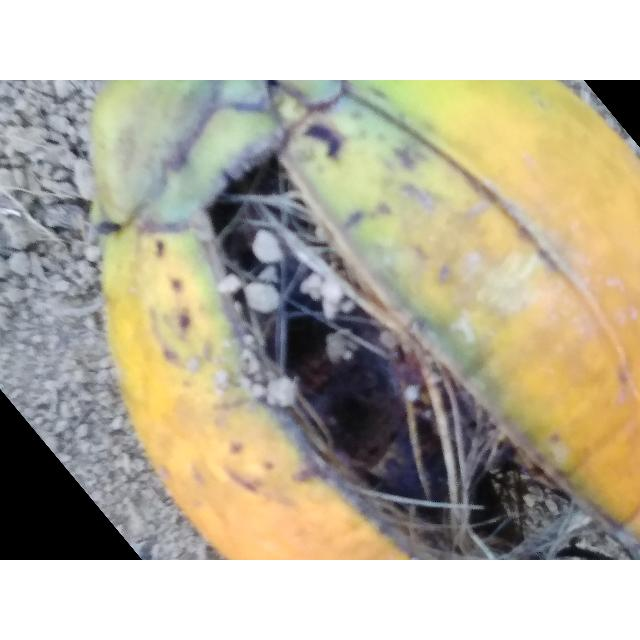damaged: (88, 80, 640, 560)
